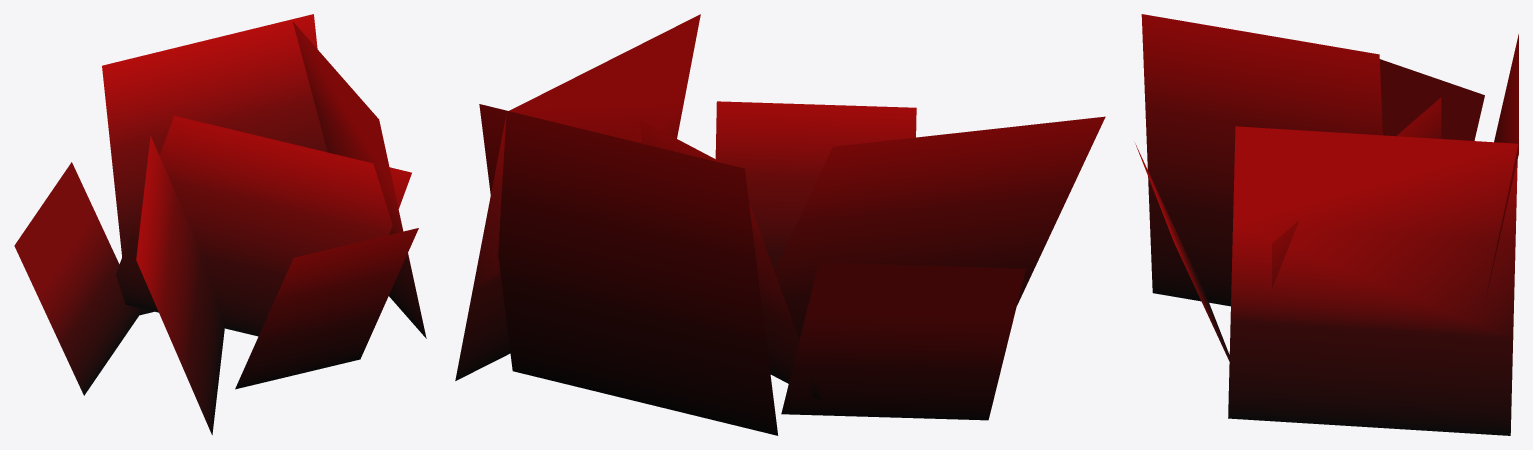
Rendered from Grass.fbx.
The picture shows the model from 3 angles, left to right: view 1: azimuth 30°, elevation 25°; view 2: azimuth 150°, elevation 25°; view 3: azimuth 270°, elevation 25°; orthographic projection. The views are drawn at different scales.
Parts seen in each view (by area): view 1: grass_LOD0; view 2: grass_LOD0; view 3: grass_LOD0.
Part boxes in pixels (x1,y1,x2,y2): grass_LOD0: (14,14,426,434); grass_LOD0: (455,14,1105,435); grass_LOD0: (1135,14,1518,435).
Size of what is drawn, in the model's own units: 0.6032 by 0.3651 by 0.4396.
